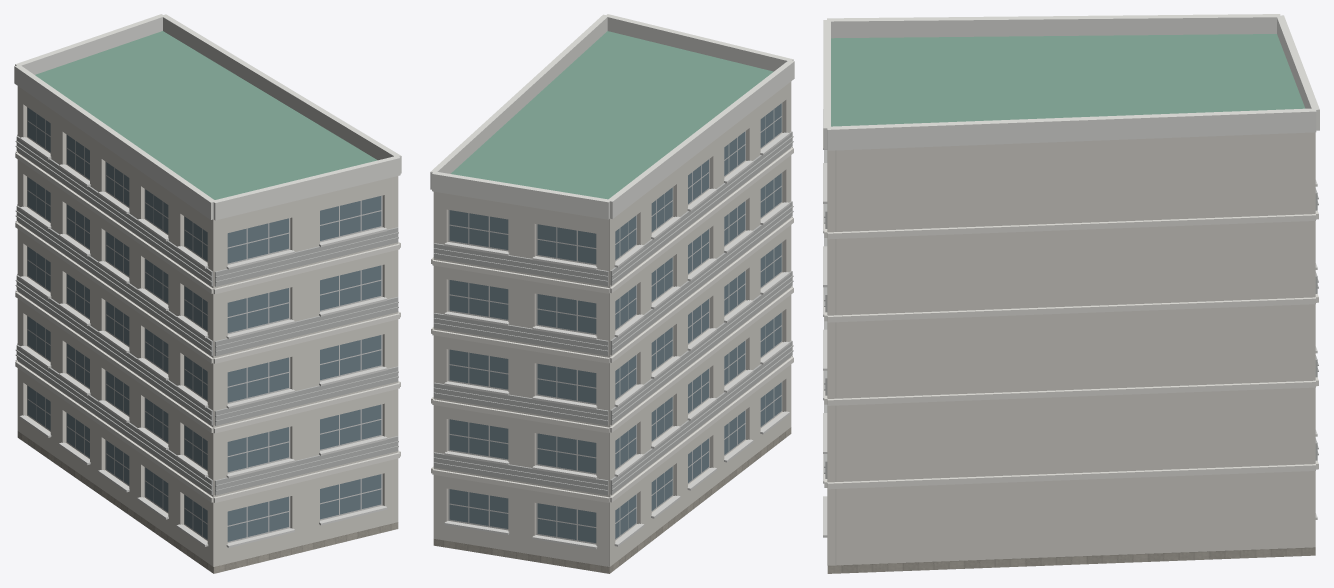
The picture shows the model from 3 angles, left to right: view 1: azimuth 30°, elevation 25°; view 2: azimuth 150°, elevation 25°; view 3: azimuth 270°, elevation 25°; orthographic projection. The views are drawn at different scales.
Visible parts, largest first — view 1: link-east__wall, link-east__glass, link-east__greenroof, link-east__louvre, link-east__cap, link-east__band, link-east__sill, link-east__frame, link-east__stone; view 2: link-east__wall, link-east__glass, link-east__greenroof, link-east__louvre, link-east__cap, link-east__band, link-east__frame, link-east__sill, link-east__stone; view 3: link-east__wall, link-east__greenroof, link-east__cap, link-east__band, link-east__stone, link-east__sill, link-east__louvre.
Part boxes in pixels (x1=…): link-east__wall: x1=17, y1=86, x2=398, y2=566; link-east__glass: x1=27, y1=107, x2=381, y2=541; link-east__greenroof: x1=35, y1=31, x2=377, y2=199; link-east__louvre: x1=15, y1=135, x2=398, y2=495; link-east__cap: x1=14, y1=14, x2=401, y2=220; link-east__band: x1=15, y1=151, x2=400, y2=502; link-east__sill: x1=19, y1=137, x2=387, y2=547; link-east__frame: x1=27, y1=107, x2=382, y2=542; link-east__stone: x1=17, y1=431, x2=398, y2=573; link-east__wall: x1=433, y1=81, x2=791, y2=566; link-east__glass: x1=449, y1=103, x2=781, y2=542; link-east__greenroof: x1=451, y1=31, x2=773, y2=199; link-east__louvre: x1=433, y1=131, x2=793, y2=495; link-east__cap: x1=430, y1=14, x2=794, y2=219; link-east__band: x1=431, y1=146, x2=793, y2=502; link-east__frame: x1=448, y1=103, x2=782, y2=544; link-east__sill: x1=444, y1=132, x2=789, y2=549; link-east__stone: x1=433, y1=427, x2=791, y2=573; link-east__wall: x1=827, y1=132, x2=1315, y2=565; link-east__greenroof: x1=831, y1=34, x2=1305, y2=126; link-east__cap: x1=823, y1=14, x2=1319, y2=150; link-east__band: x1=824, y1=210, x2=1318, y2=489; link-east__stone: x1=827, y1=547, x2=1315, y2=573; link-east__sill: x1=823, y1=109, x2=1317, y2=537; link-east__louvre: x1=824, y1=150, x2=1318, y2=478.
Bounding box in the file's own units: 10.74 × 19.26 × 19.45.
Materials: 10 (1 with a texture image).
